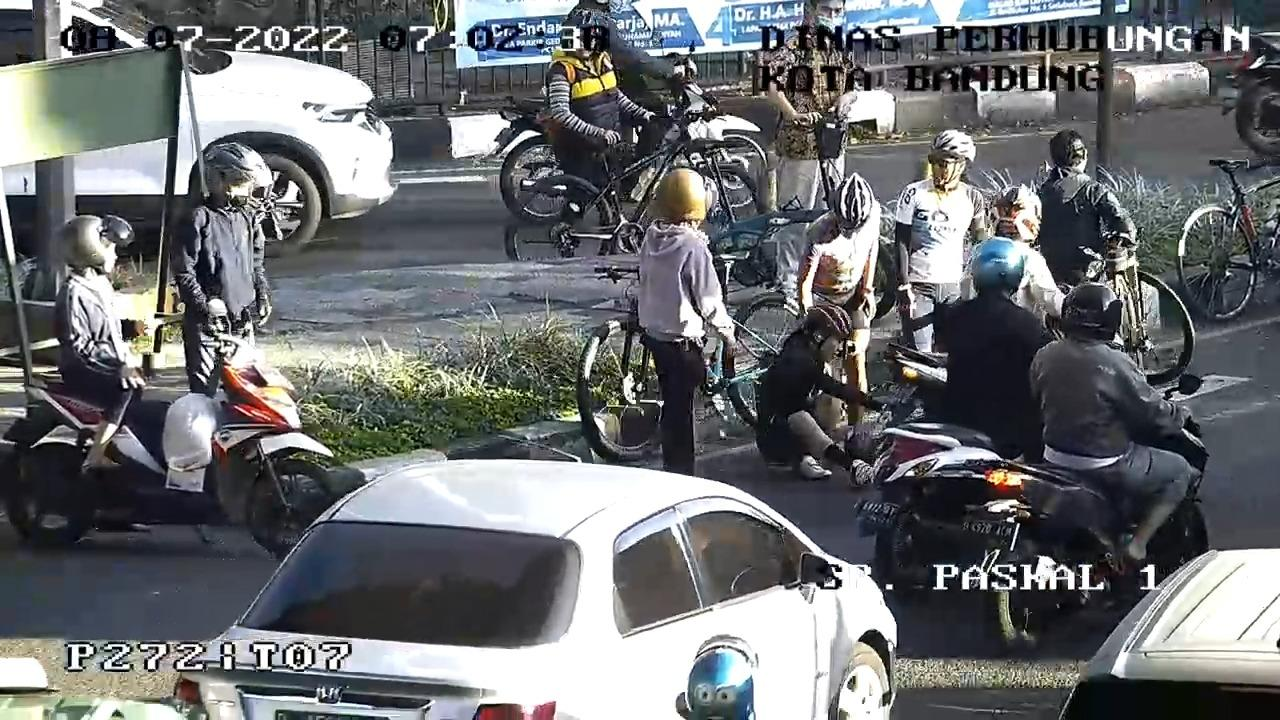accident: (729, 299, 898, 494)
